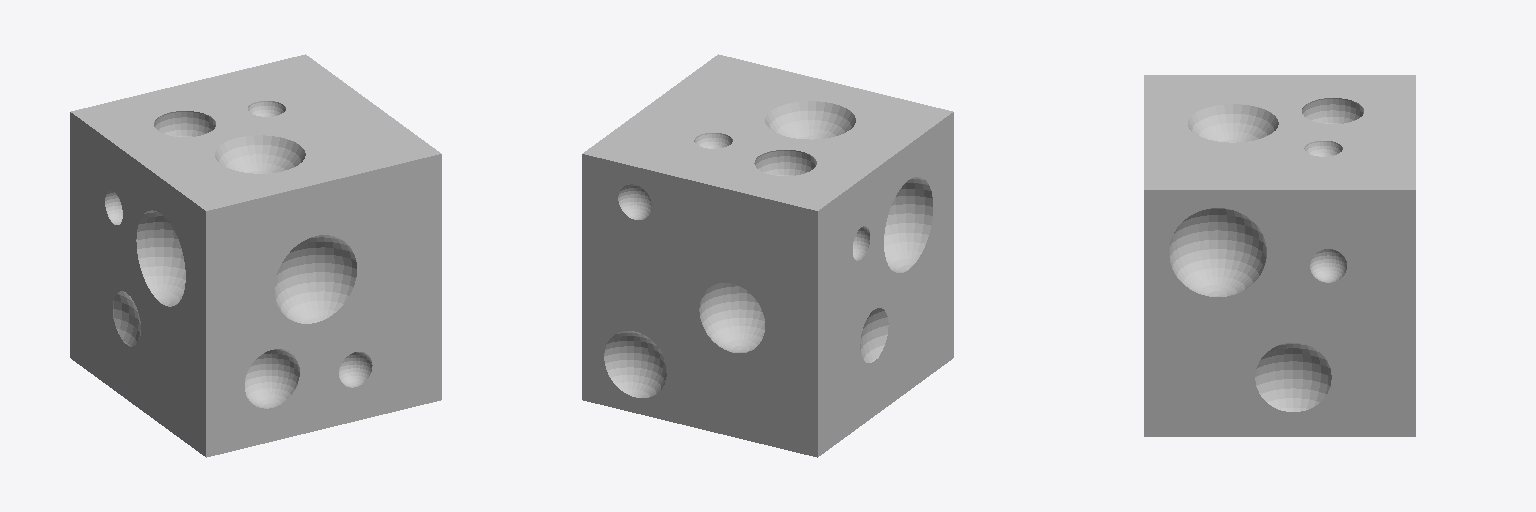
Rendered from chyz.obj.
3 renders of one model, left to right at view 1: azimuth 30°, elevation 25°; view 2: azimuth 150°, elevation 25°; view 3: azimuth 270°, elevation 25°, orthographic.
Visible parts, largest first — view 1: Cube_Cube.001; view 2: Cube_Cube.001; view 3: Cube_Cube.001.
Boxes of the visible parts, x1,y1,x2,y2 form: Cube_Cube.001: [70, 54, 441, 457]; Cube_Cube.001: [582, 54, 953, 457]; Cube_Cube.001: [1144, 75, 1415, 436].
Bounding box in the file's own units: 1 × 1 × 1.